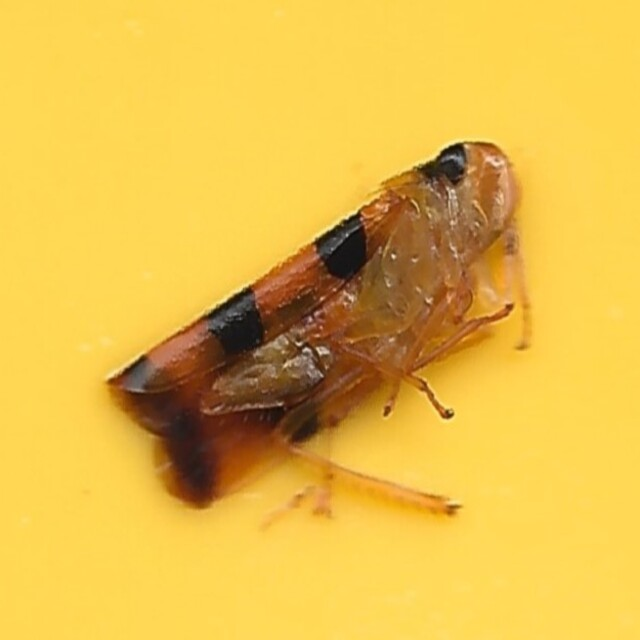Hemiptera: (102, 130, 538, 510)
